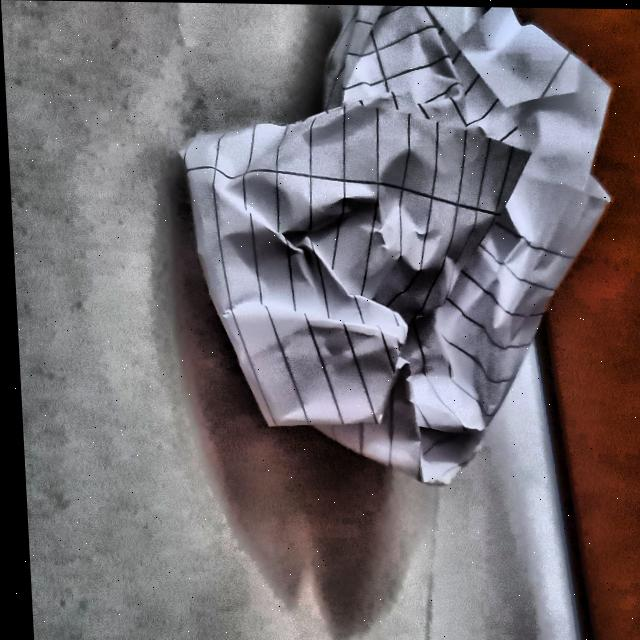paper: (162, 2, 624, 500)
